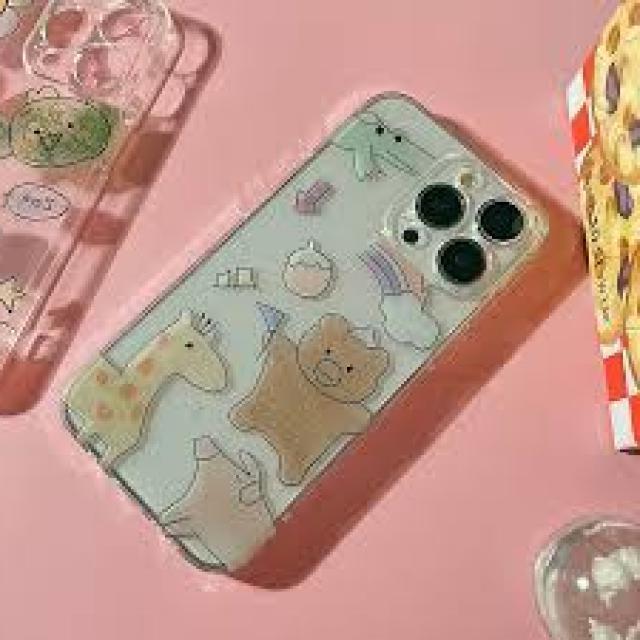mobile: (57, 82, 560, 584)
